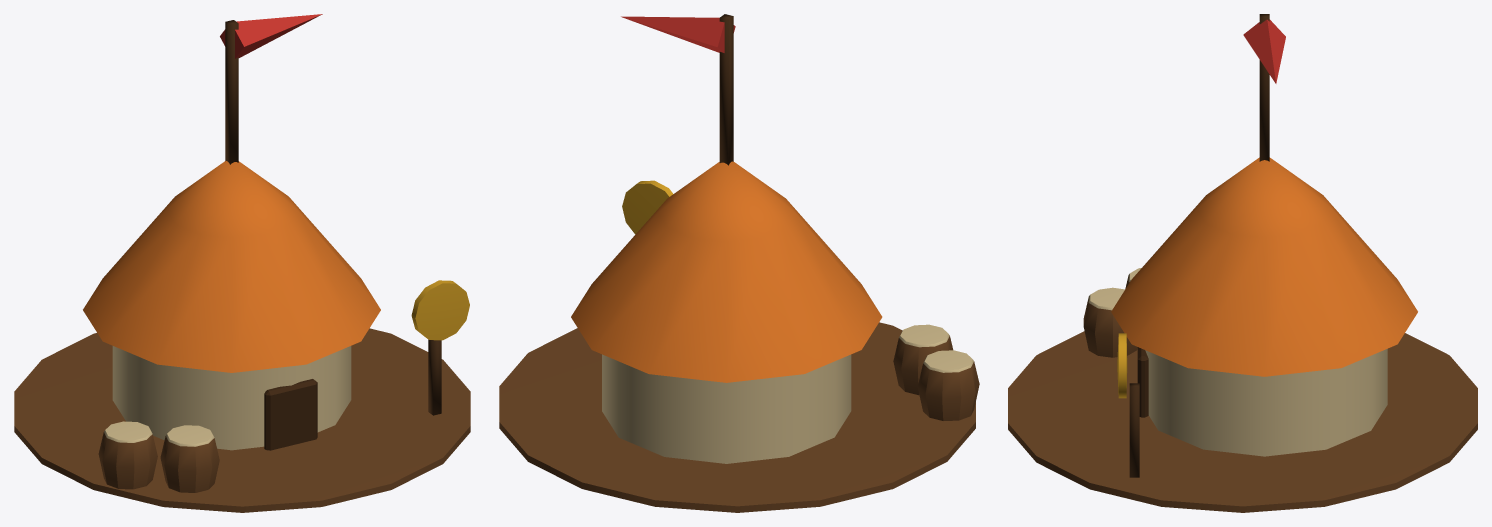
3 views of the same model, side by side, from view 1: azimuth 30°, elevation 25°; view 2: azimuth 150°, elevation 25°; view 3: azimuth 270°, elevation 25° (orthographic). The views are drawn at different scales.
Parts seen in each view (by area): view 1: vila_0_base, vila_1_torreta; view 2: vila_0_base, vila_1_torreta; view 3: vila_0_base, vila_1_torreta.
Boxes of the visible parts, x1,y1,x2,y2 form: vila_0_base: [14, 161, 470, 512]; vila_1_torreta: [220, 14, 322, 164]; vila_0_base: [499, 161, 979, 512]; vila_1_torreta: [621, 14, 735, 165]; vila_0_base: [1008, 157, 1477, 512]; vila_1_torreta: [1243, 14, 1285, 161].
Size of the model in its own units: 1.32 by 1.21 by 1.3.
